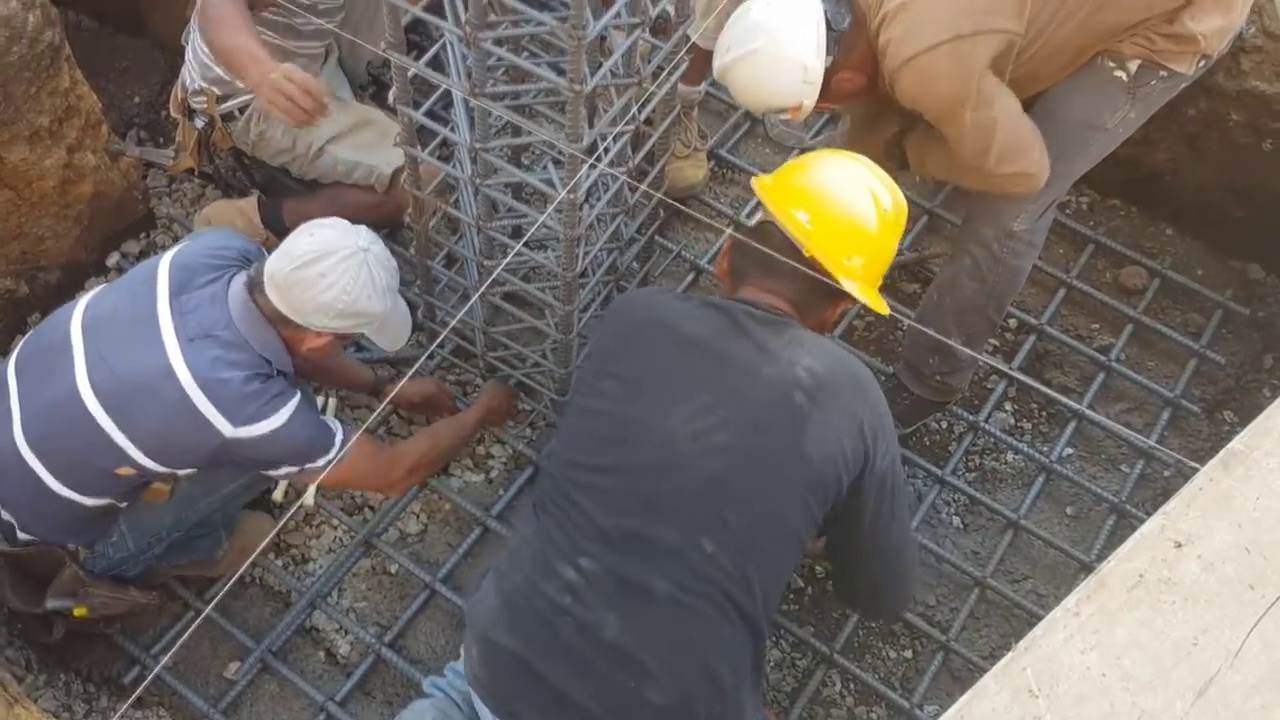helmet: (744, 143, 914, 304), (719, 0, 846, 118)
helmet-off: (245, 213, 406, 376)
helmet-on: (708, 145, 913, 346), (712, 1, 890, 128)
person: (721, 0, 1250, 428), (12, 198, 535, 612), (542, 145, 919, 694), (167, 0, 454, 194)
